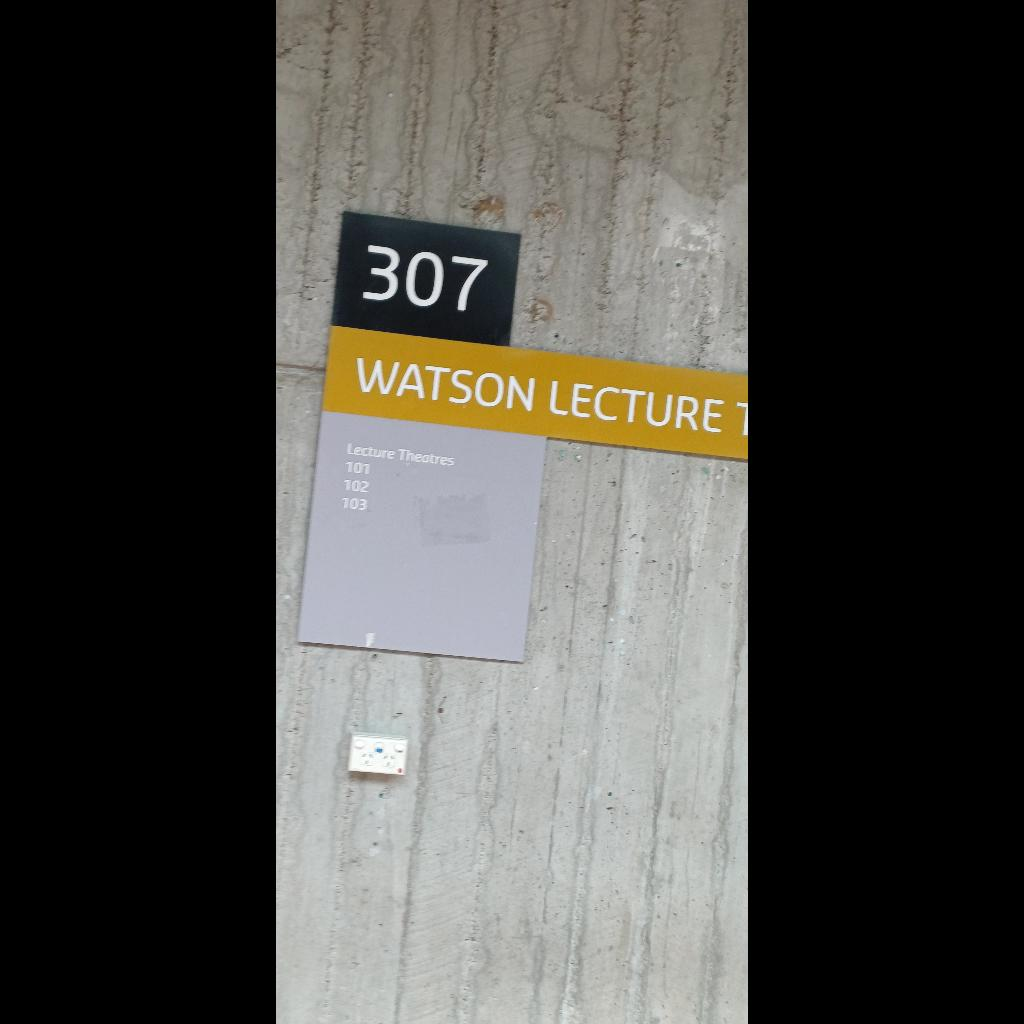BuildingCodes: (362, 236, 492, 334)
